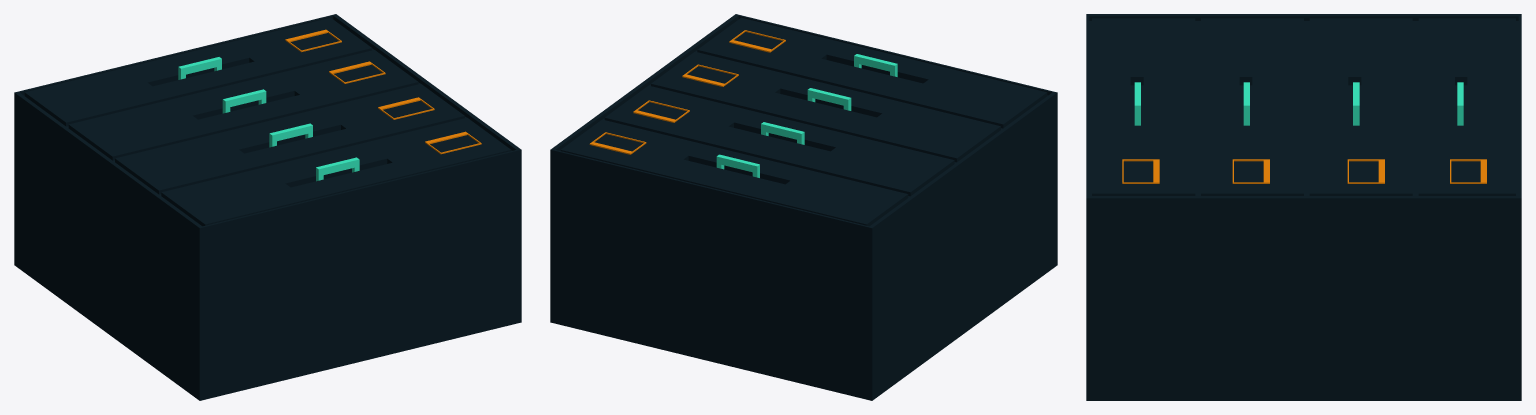
Rendered from CabinetLarge.fbx.
3 renders of one model, left to right at view 1: azimuth 30°, elevation 25°; view 2: azimuth 150°, elevation 25°; view 3: azimuth 270°, elevation 25°, orthographic. The views are drawn at different scales.
Visible parts, largest first — view 1: filing cabinet, CabindetHandles000.003, CabindetHandles000.002, CabindetHandles000, CabindetHandles000.004; view 2: filing cabinet, CabindetHandles000.002, CabindetHandles000.004, CabindetHandles000, CabindetHandles000.003; view 3: filing cabinet.
Part boxes in pixels (<box>): filing cabinet: <box>14,14,521,400</box>; CabindetHandles000.003: <box>222,89,266,113</box>; CabindetHandles000.002: <box>269,123,312,147</box>; CabindetHandles000: <box>316,157,359,181</box>; CabindetHandles000.004: <box>178,57,221,79</box>; filing cabinet: <box>550,14,1057,400</box>; CabindetHandles000.002: <box>807,88,851,110</box>; CabindetHandles000.004: <box>716,154,759,177</box>; CabindetHandles000: <box>854,54,897,76</box>; CabindetHandles000.003: <box>761,122,804,144</box>; filing cabinet: <box>1086,14,1521,400</box>.
Bounding box in the file's own units: 100156 × 54283 × 99967.
7 materials, 7 textured.
